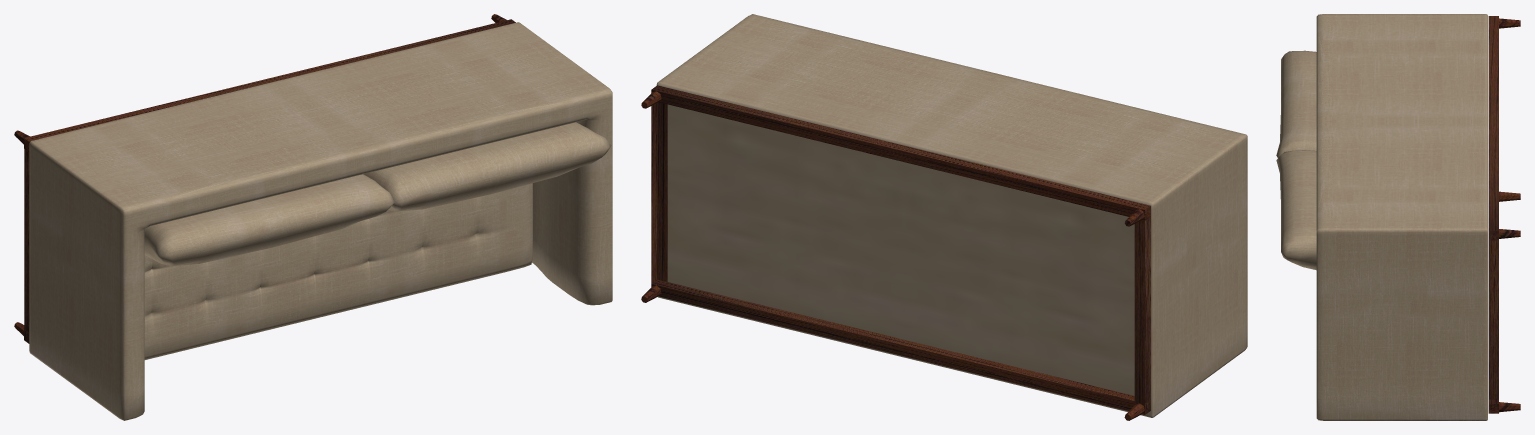
Rendered from florence_compact.obj.
3 views of the same model, side by side, from view 1: azimuth 30°, elevation 25°; view 2: azimuth 150°, elevation 25°; view 3: azimuth 270°, elevation 25° (orthographic). The views are drawn at different scales.
Parts seen in each view (by area): view 1: Cube_Cube.001, Cube.001_Cube.004, Cube.002_Cube.005, Cube.003_Cube.006, Cube.004_Cube.007; view 2: Cube_Cube.001, Cube.004_Cube.007; view 3: Cube_Cube.001, Cube.004_Cube.007, Cube.003_Cube.006, Cube.002_Cube.005.
Part boxes in pixels (bbox=[...]): Cube_Cube.001: bbox=[29, 22, 612, 420]; Cube.001_Cube.004: bbox=[144, 183, 532, 359]; Cube.002_Cube.005: bbox=[144, 174, 394, 266]; Cube.003_Cube.006: bbox=[363, 122, 611, 211]; Cube.004_Cube.007: bbox=[14, 14, 515, 343]; Cube_Cube.001: bbox=[656, 14, 1247, 417]; Cube.004_Cube.007: bbox=[641, 85, 1150, 420]; Cube_Cube.001: bbox=[1316, 14, 1487, 420]; Cube.004_Cube.007: bbox=[1488, 16, 1520, 413]; Cube.003_Cube.006: bbox=[1276, 150, 1316, 270]; Cube.002_Cube.005: bbox=[1276, 50, 1316, 157].
Size of the model in its own units: 71 by 29.4 by 33.9.
Materials: 2 (2 with a texture image).
